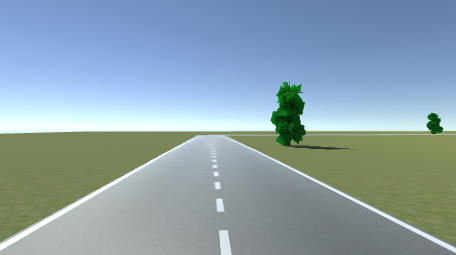tree: (271, 82, 308, 146), (426, 112, 445, 136)
